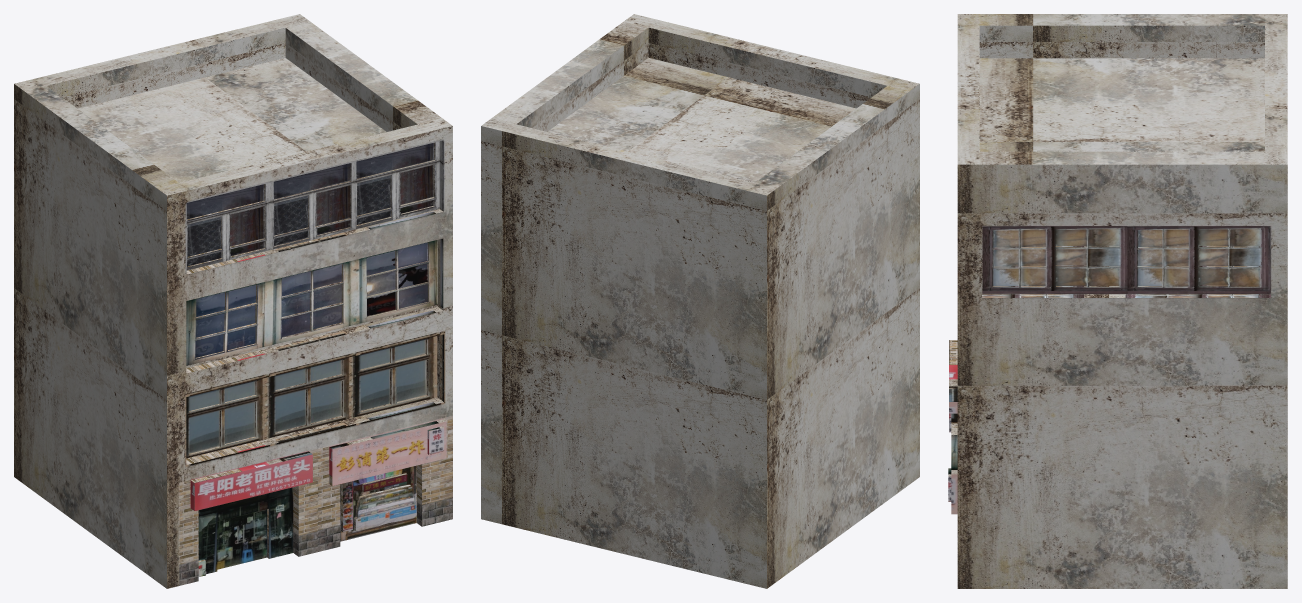
The model's file is building-4.glb.
3 views of the same model, side by side, from view 1: azimuth 30°, elevation 25°; view 2: azimuth 150°, elevation 25°; view 3: azimuth 270°, elevation 25° (orthographic). The views are drawn at different scales.
Visible parts, largest first — view 1: SketchUp_Instance_0, SketchUp_Instance_0.001, SketchUp_Instance_0.003, SketchUp_Instance_0.024, SketchUp_Instance_0.005, SketchUp_Instance_0.010, SketchUp_Instance_0.079, SketchUp_Instance_0.011, SketchUp_Instance_0.036, SketchUp_Instance_0.031, SketchUp_Instance_0.038, SketchUp_Instance_0.018 (+26 smaller); view 2: SketchUp_Instance_0, SketchUp_Instance_0.003; view 3: SketchUp_Instance_0.002, SketchUp_Instance_0.003, SketchUp_Instance_0, SketchUp_Instance_0.047, SketchUp_Instance_0.001, SketchUp_Instance_0.055, SketchUp_Instance_0.065, SketchUp_Instance_0.057, SketchUp_Instance_0.062, SketchUp_Instance_0.060, SketchUp_Instance_0.064, SketchUp_Instance_0.061 (+16 smaller).
Boxes of the visible parts, <box> form: SketchUp_Instance_0: <box>14,14,452,588</box>; SketchUp_Instance_0.001: <box>167,126,452,588</box>; SketchUp_Instance_0.003: <box>47,27,417,182</box>; SketchUp_Instance_0.024: <box>186,238,443,373</box>; SketchUp_Instance_0.005: <box>186,334,444,464</box>; SketchUp_Instance_0.010: <box>186,140,443,274</box>; SketchUp_Instance_0.079: <box>354,485,416,531</box>; SketchUp_Instance_0.011: <box>356,142,435,179</box>; SketchUp_Instance_0.036: <box>274,163,351,200</box>; SketchUp_Instance_0.031: <box>186,184,265,220</box>; SketchUp_Instance_0.038: <box>315,185,351,227</box>; SketchUp_Instance_0.018: <box>275,389,307,433</box>; SketchUp_Instance_0: <box>481,14,919,588</box>; SketchUp_Instance_0.003: <box>516,27,886,182</box>; SketchUp_Instance_0.002: <box>957,164,1287,588</box>; SketchUp_Instance_0.003: <box>979,25,1264,151</box>; SketchUp_Instance_0: <box>957,14,1287,164</box>; SketchUp_Instance_0.047: <box>982,226,1270,297</box>; SketchUp_Instance_0.001: <box>949,340,957,514</box>; SketchUp_Instance_0.055: <box>1230,229,1260,247</box>; SketchUp_Instance_0.065: <box>1056,268,1086,286</box>; SketchUp_Instance_0.057: <box>1229,249,1260,266</box>; SketchUp_Instance_0.062: <box>1088,249,1119,266</box>; SketchUp_Instance_0.060: <box>1088,229,1119,246</box>; SketchUp_Instance_0.064: <box>1089,269,1119,286</box>; SketchUp_Instance_0.061: <box>1055,230,1086,246</box>.
Size of the model in its own units: 3.24 by 4.26 by 3.08.
Materials: 3 (3 with a texture image).
